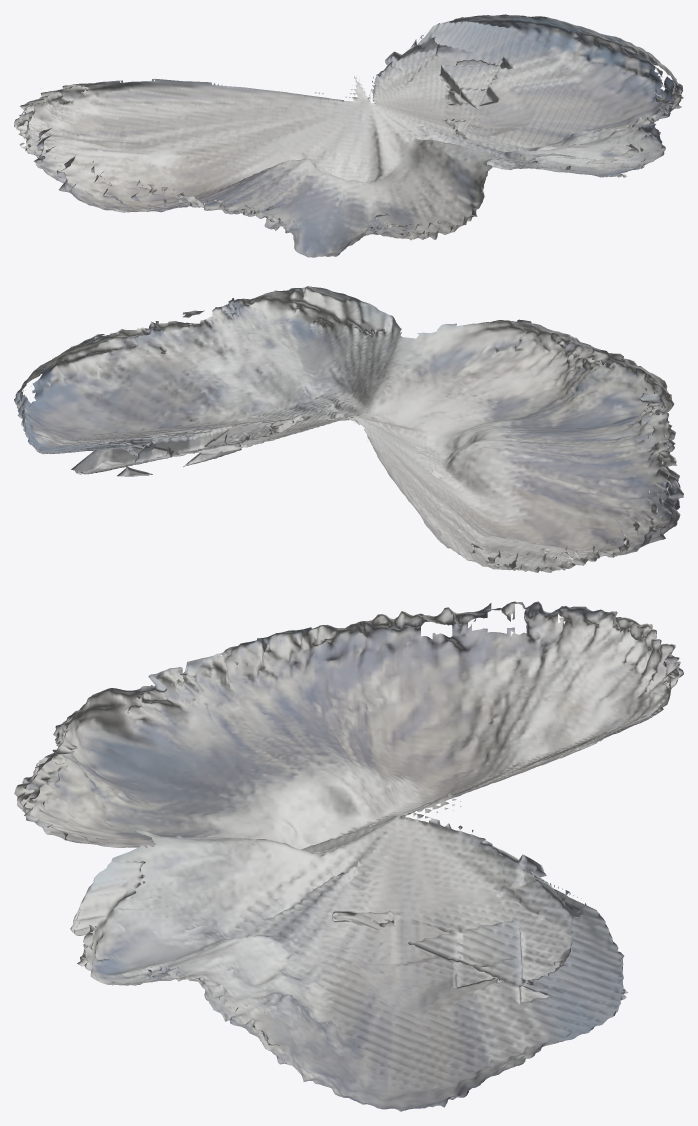
Rendered from collider_mesh_url.glb.
The picture shows the model from 3 angles, top to bottom: view 1: azimuth 30°, elevation 25°; view 2: azimuth 150°, elevation 25°; view 3: azimuth 270°, elevation 25°; orthographic projection. The views are drawn at different scales.
Parts seen in each view (by area): view 1: world; view 2: world; view 3: world.
Part boxes in pixels (box(x1,y1,x2,y2)): world: box(14, 14, 683, 257); world: box(14, 286, 683, 572); world: box(14, 601, 683, 1111).
Size of the model in its own units: 603 by 88.44 by 404.
